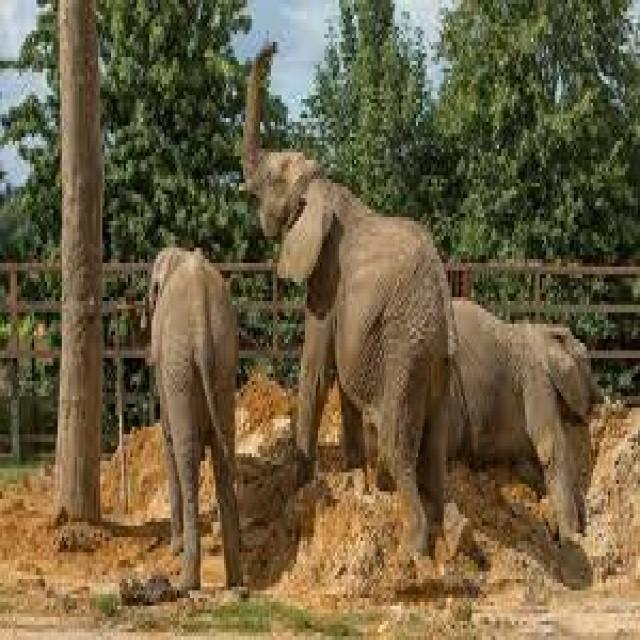Elephant: (237, 38, 456, 568), (145, 240, 245, 590)
